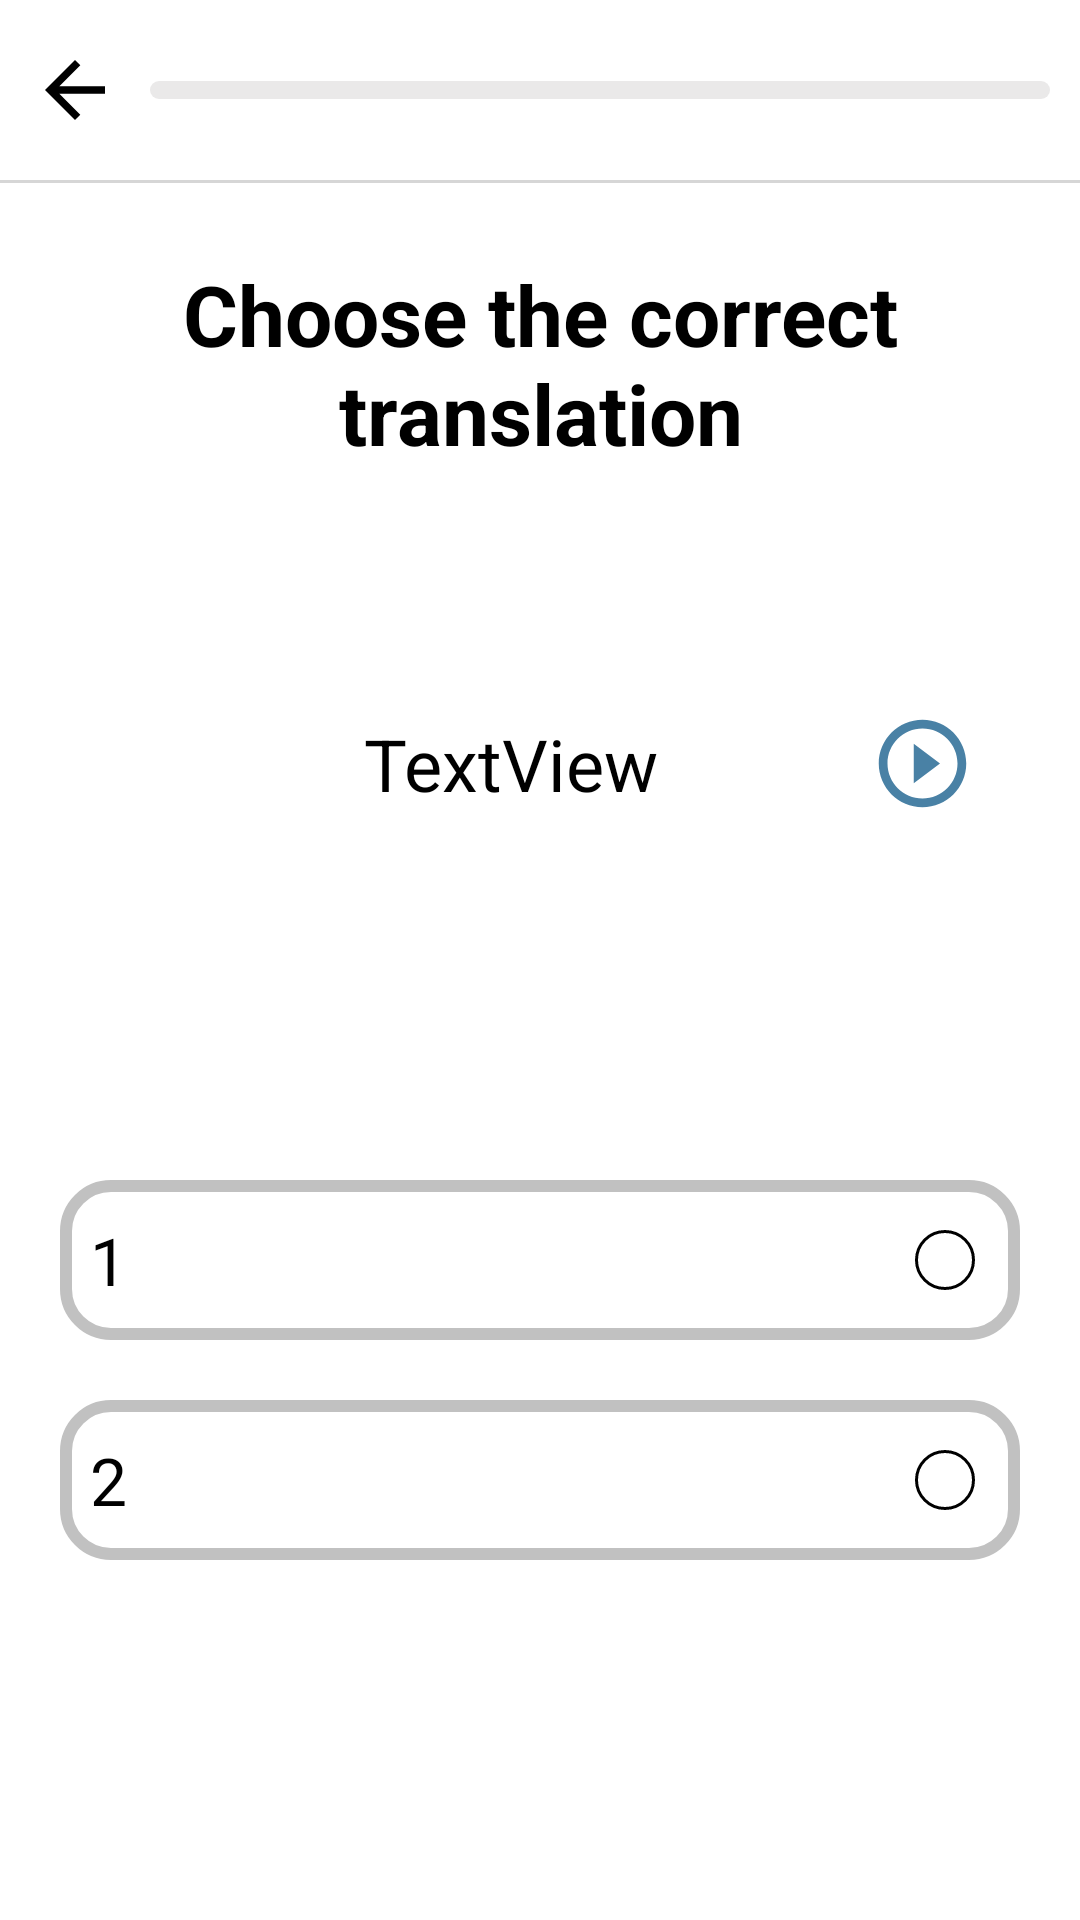

Named icons in this screenshot (1080px x 1920px) and their bounding boxes, rect(x1, y1, x2, y2):
arrow back: rect(45, 60, 105, 120)
play circle: rect(878, 719, 967, 808)
